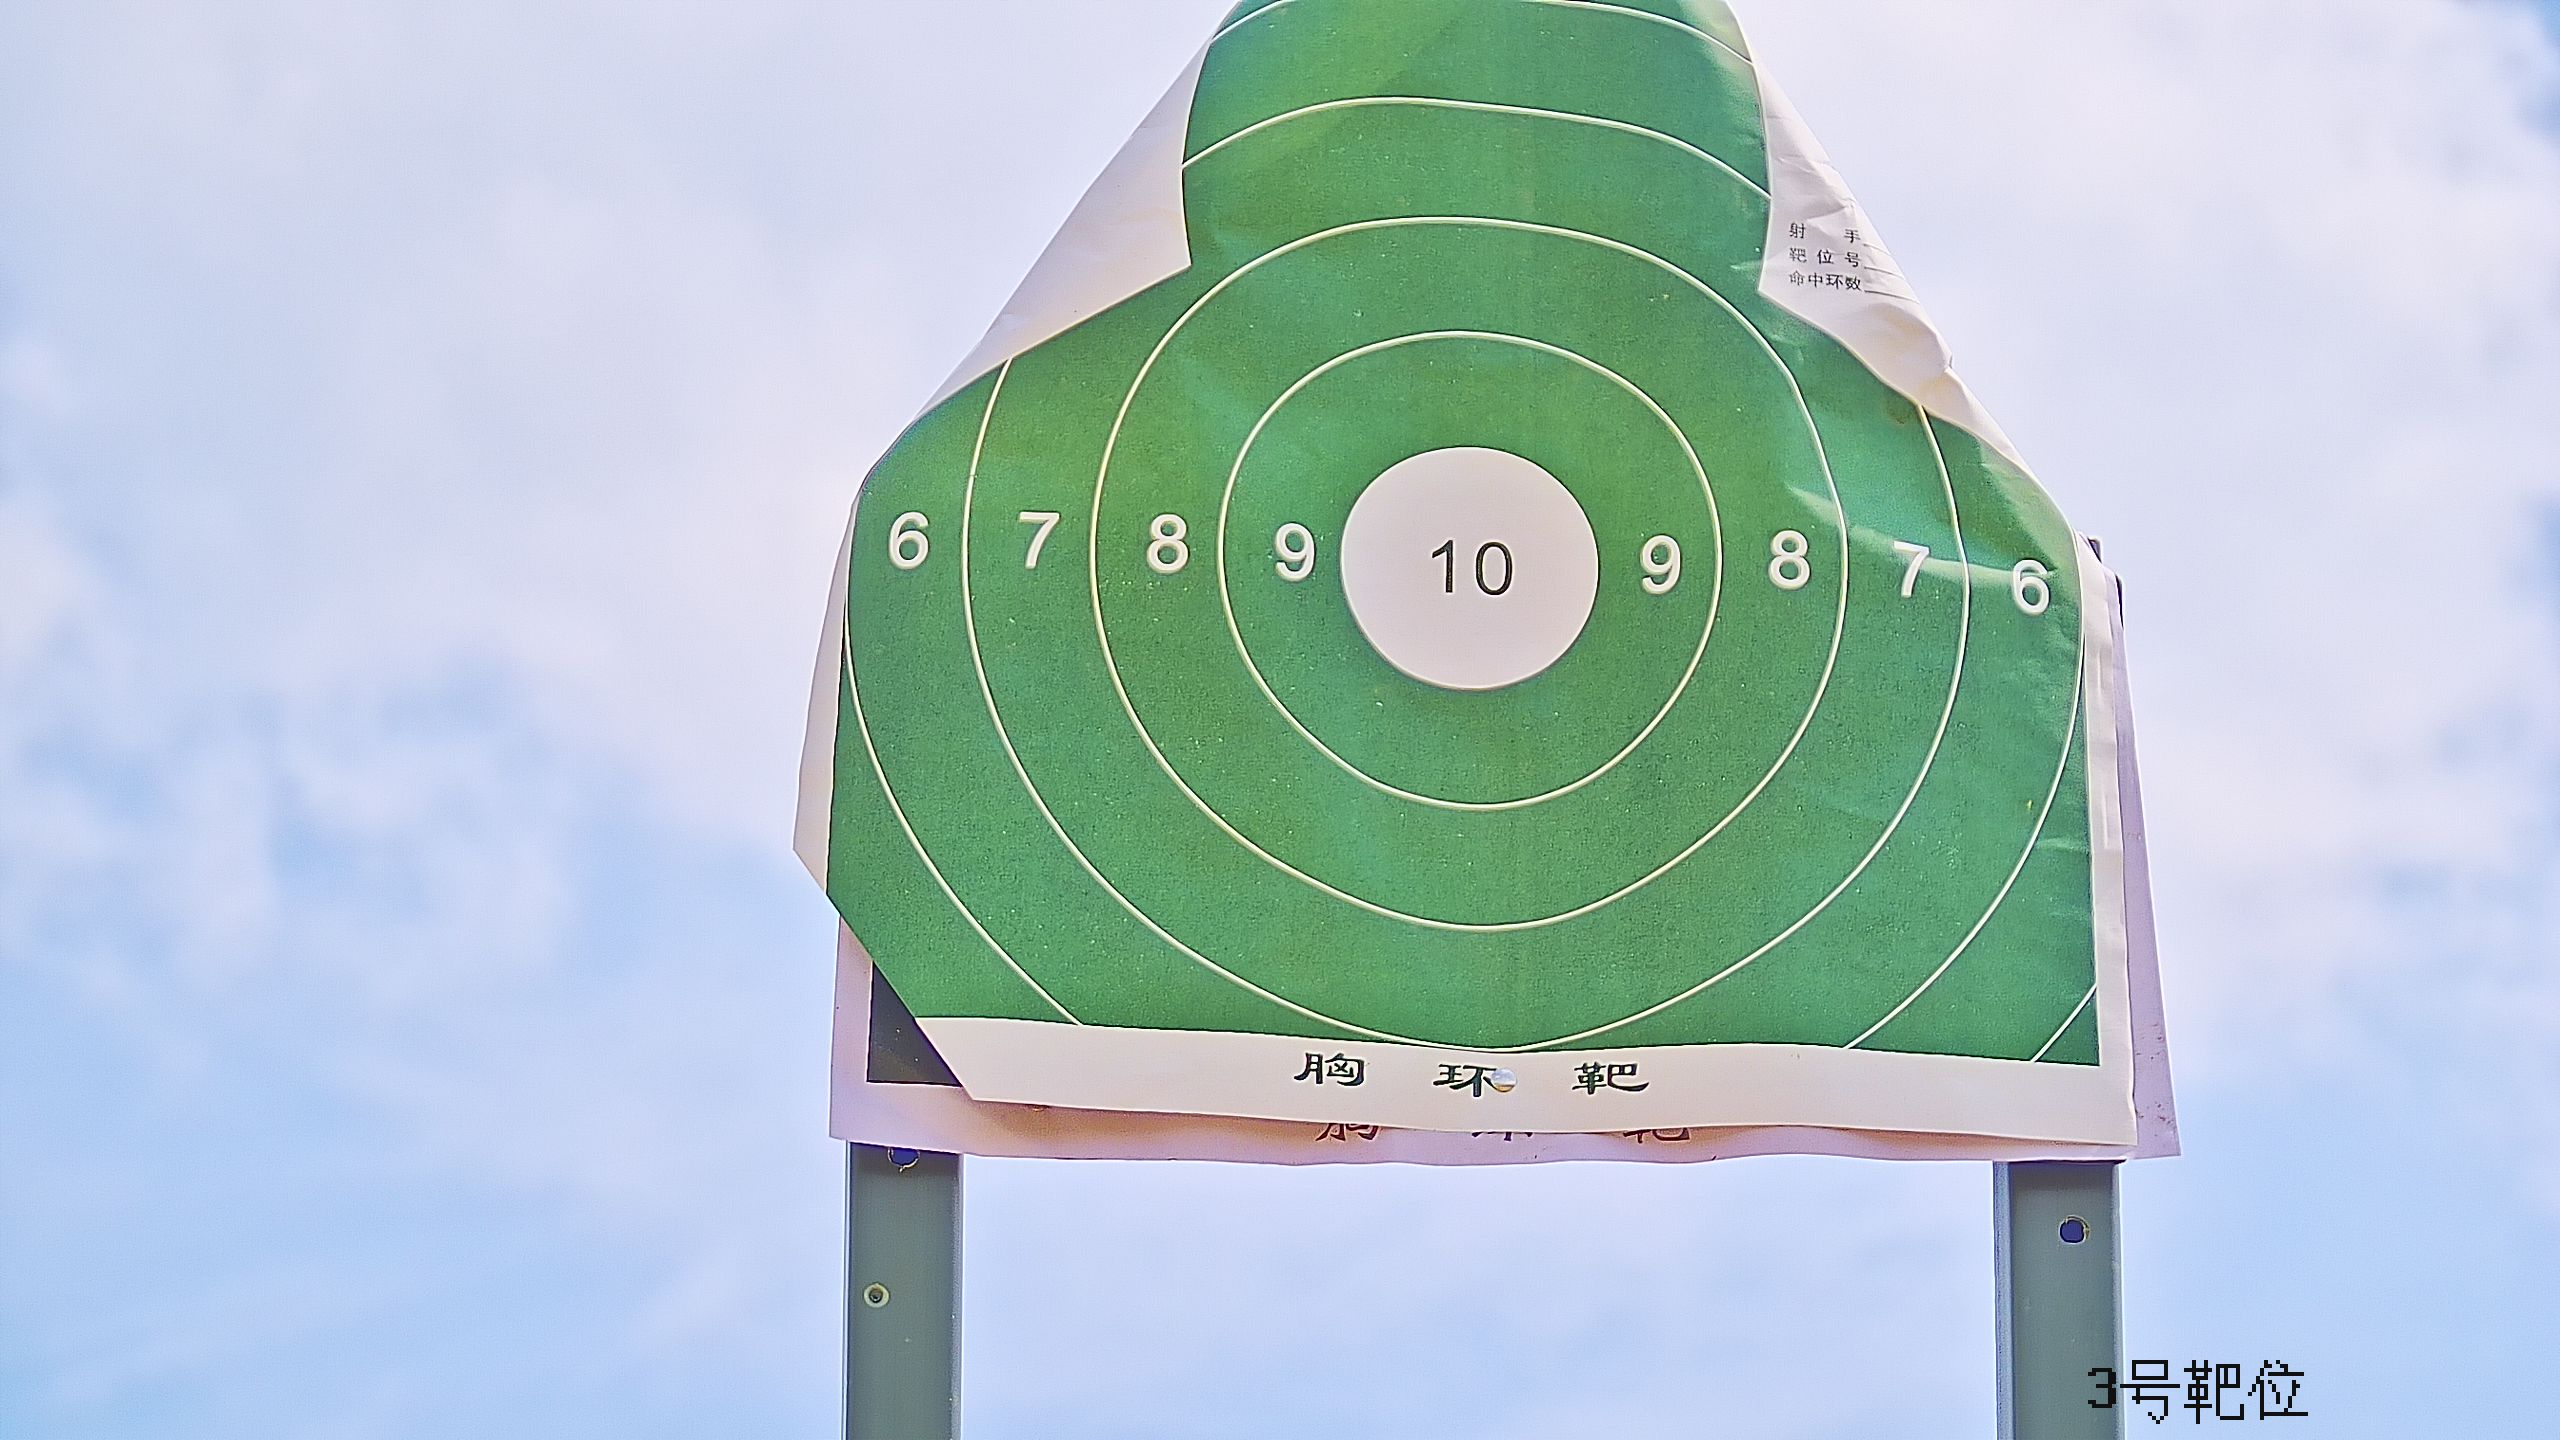kernel: (1459, 566, 1466, 573)
target: (823, 2, 2103, 1076)
ten: (1335, 440, 1600, 700)
